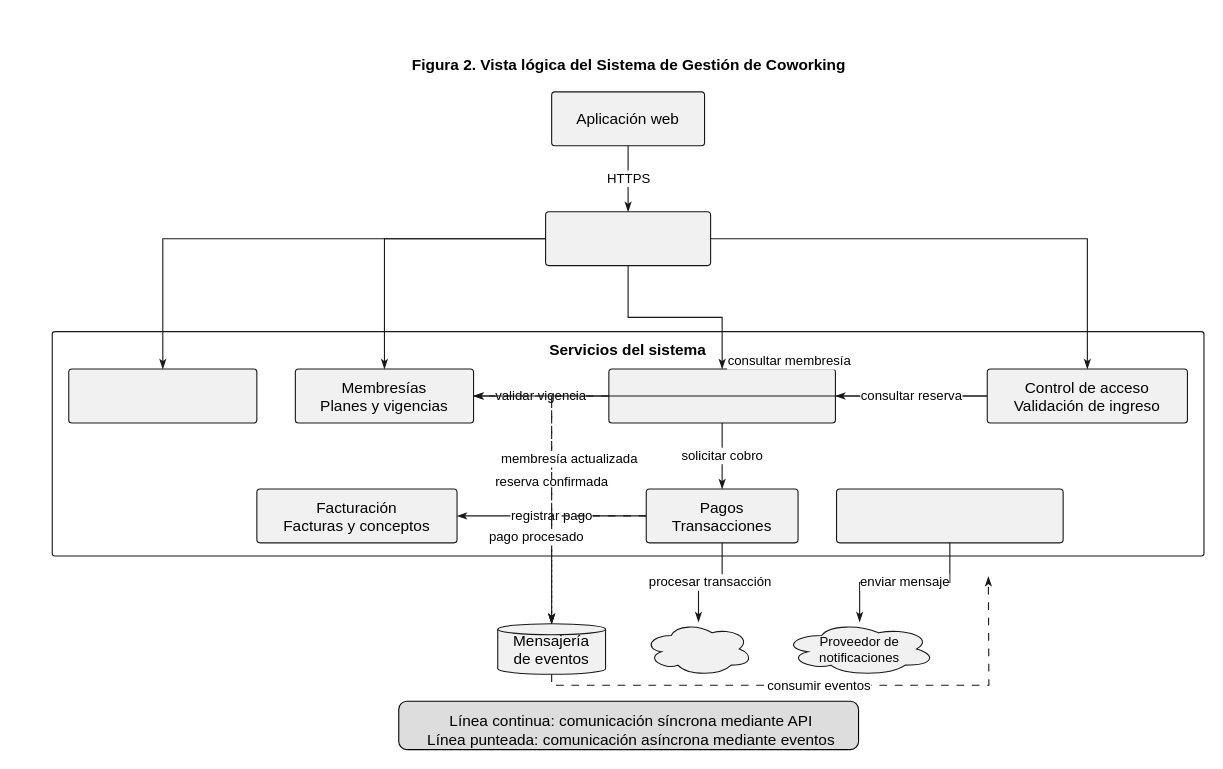
Image size: 1223x769. Some labels were removed from this diagram. The shapes that lost their labels are listed below. From the top down, each one's centre as x and y in pixels, then its label:
(x=627, y=238): Punto de entrada de API
(x=162, y=395): Usuarios Perfiles y permisos
(x=721, y=395): Reservas Disponibilidad y espacios
(x=949, y=515): Notificaciones Confirmaciones y alertas
(x=698, y=648): Pasarela de pagos
